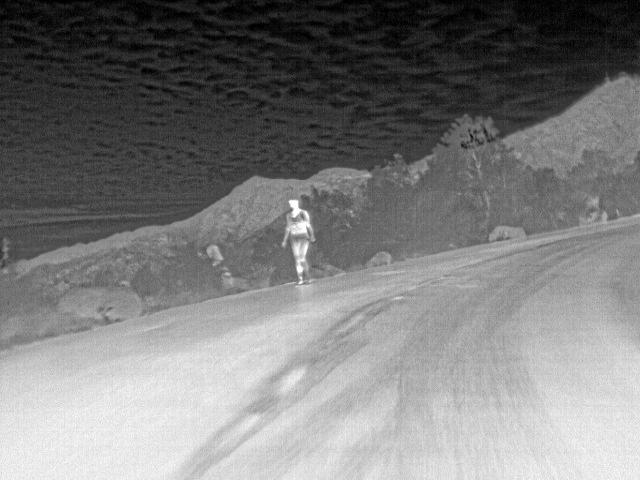person: (280, 198, 318, 287)
